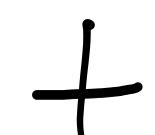plus: (36, 19, 144, 135)
